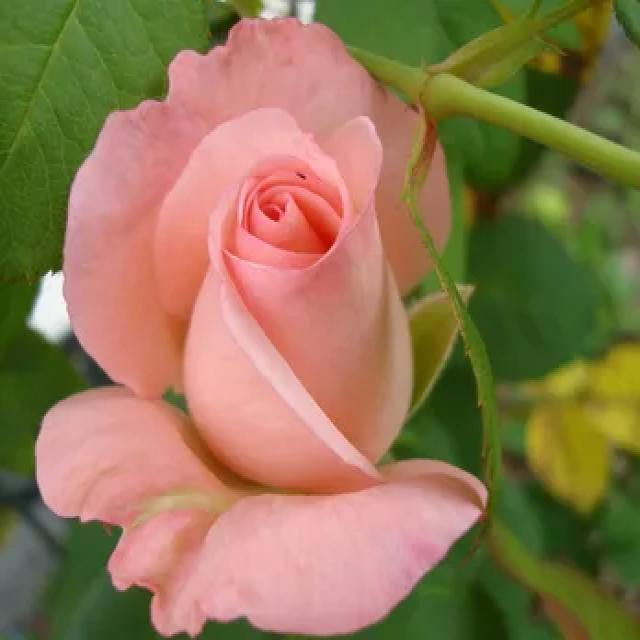rose: (44, 0, 502, 640)
